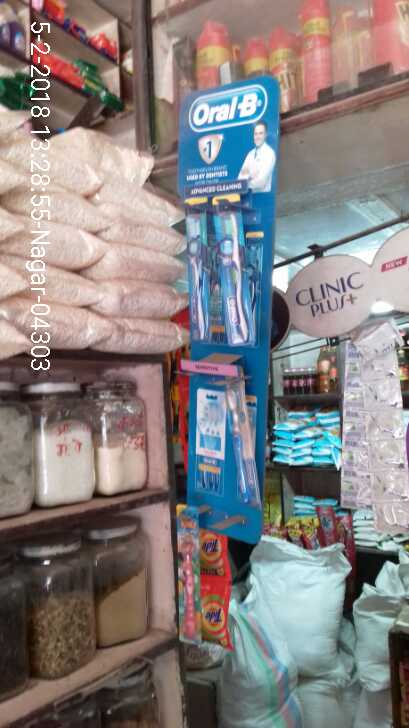oralb: (224, 216, 254, 366), (180, 211, 211, 345)
